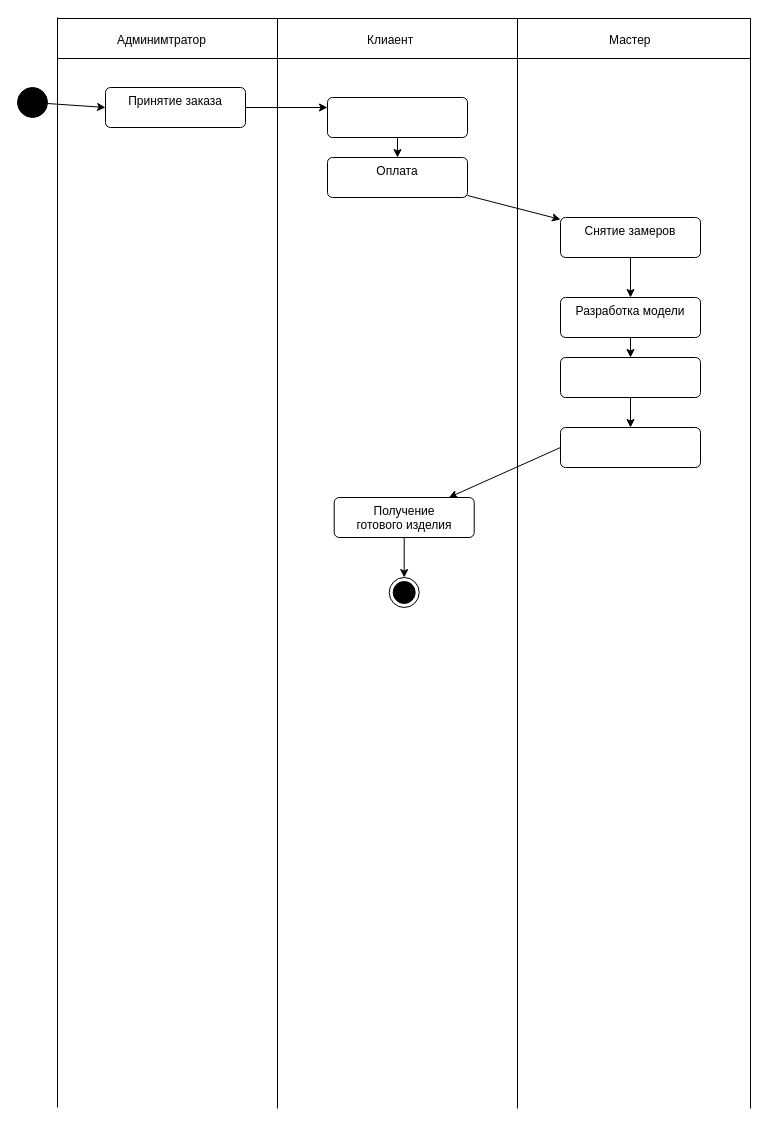
Image size: 770x1127. Some labels were removed from this diagram. The centre of each missing label's shape, as x and y in pixels:
"Описание требований" belongs at point 397,117.
"Процесс пошива" belongs at point 630,447.
"Расчет расхода материалов" belongs at point 630,377.
